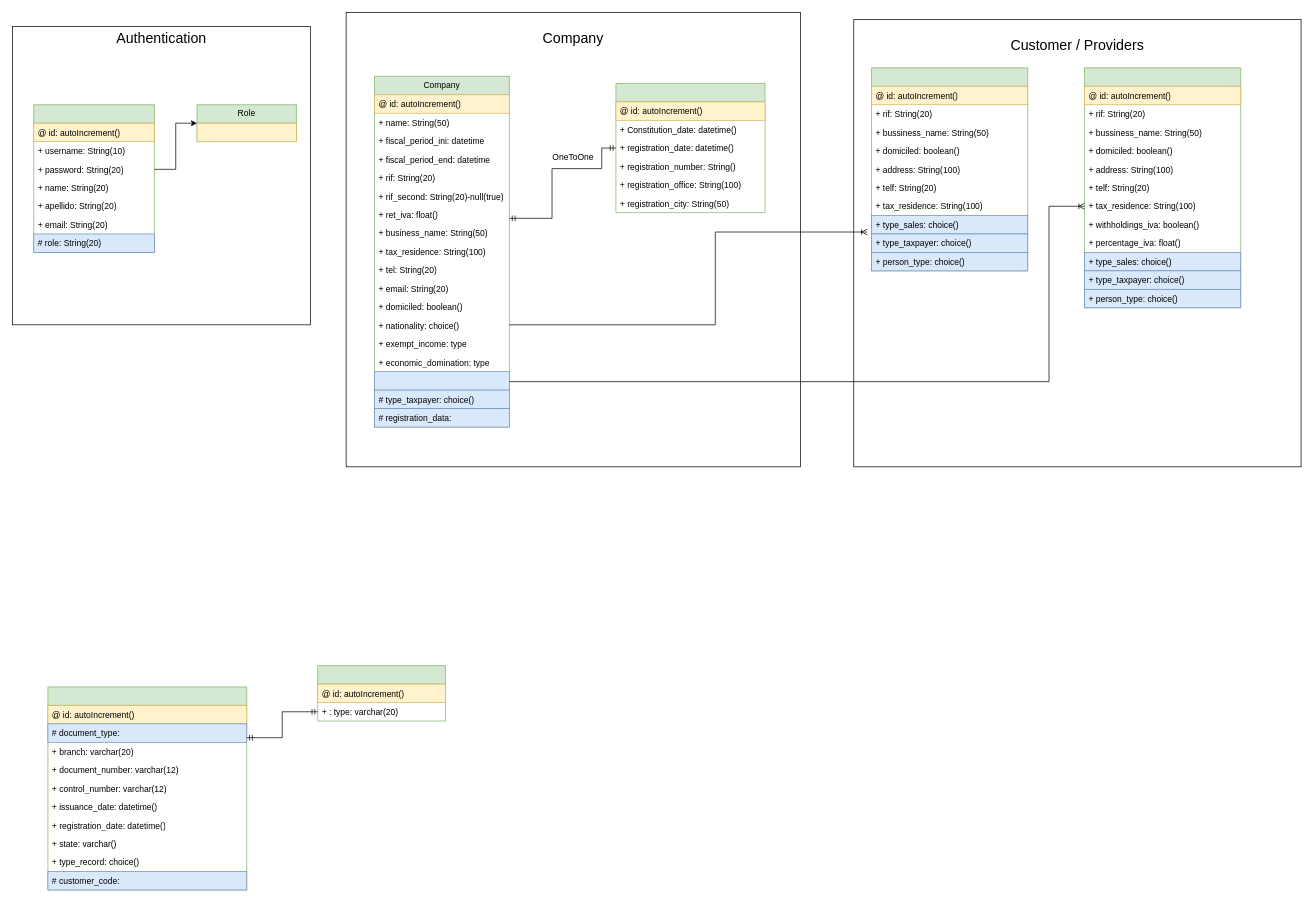
Some shapes in this 1314 by 905 pixel diagram are drawn without their labels. The shapes that lost their labels are listed below. From the top down, each one's box as (x1, y1, x2, y2) in pixels, then its label:
(196, 122, 296, 142): @ role: String(10)
(615, 83, 765, 213): RegistrationData
(33, 104, 154, 252): CustomUser
(871, 67, 1028, 271): Customer
(1084, 67, 1241, 308): Providers
(374, 371, 509, 390): # type_person: choice()
(317, 665, 446, 721): DocumentType
(47, 686, 247, 890): SaleDocument
